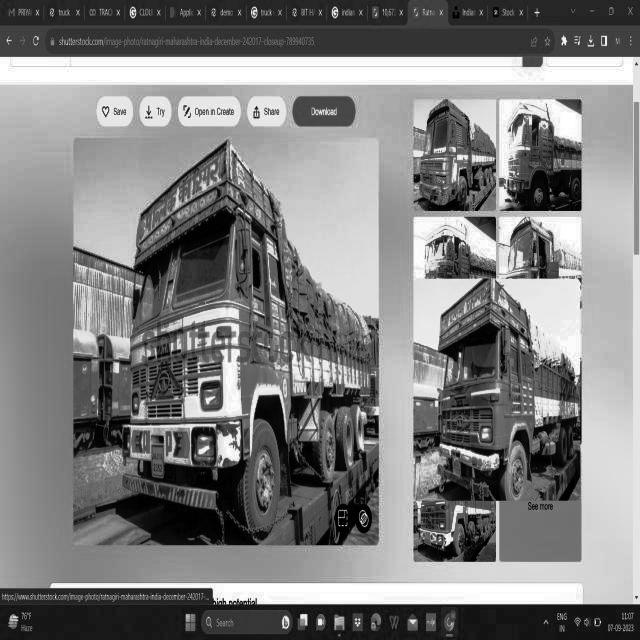HCV: (104, 141, 376, 544)
